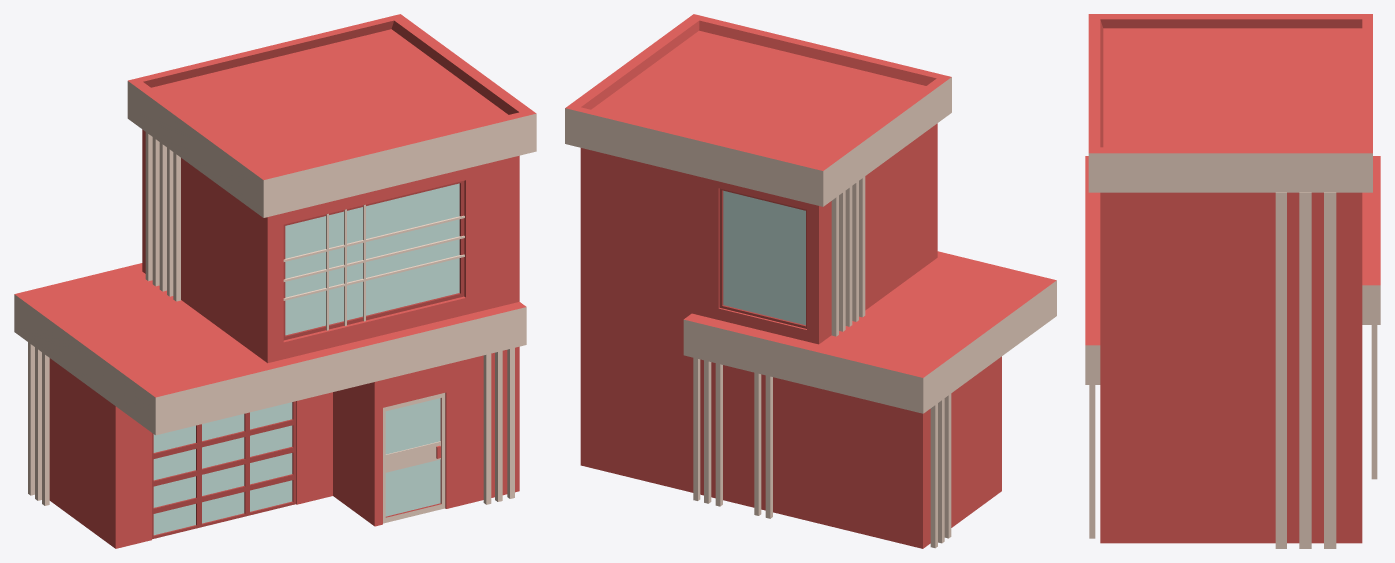
File: Casa6.fbx
The picture shows the model from 3 angles, left to right: view 1: azimuth 30°, elevation 25°; view 2: azimuth 150°, elevation 25°; view 3: azimuth 270°, elevation 25°; orthographic projection. The views are drawn at different scales.
Visible parts, largest first — view 1: fire_station; view 2: fire_station; view 3: fire_station.
Part boxes in pixels (x1=…): fire_station: x1=14, y1=14, x2=536, y2=548; fire_station: x1=565, y1=14, x2=1056, y2=548; fire_station: x1=1085, y1=14, x2=1380, y2=548.
Size of the model in its own units: 919 by 869 by 587.
